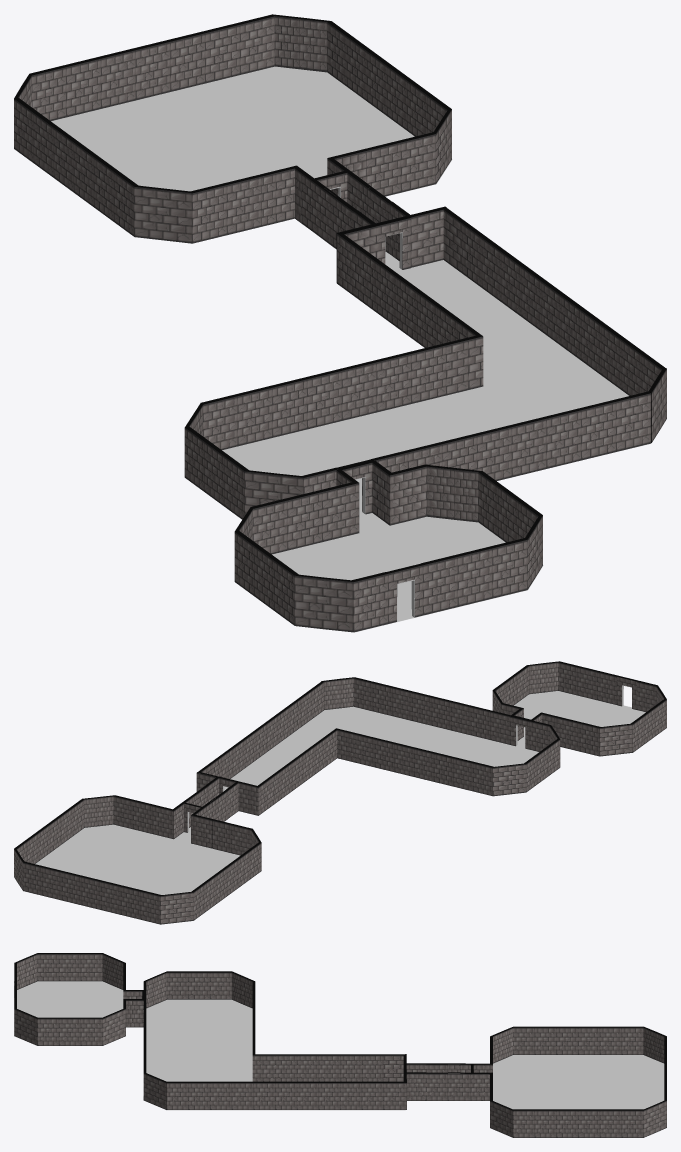
File: salle.fbx
3 views of the same model, one above another, from view 1: azimuth 30°, elevation 25°; view 2: azimuth 150°, elevation 25°; view 3: azimuth 270°, elevation 25° (orthographic). The views are drawn at different scales.
Parts seen in each view (by area): view 1: Plane277, Plane109, Plane247, Plane231, Plane072, Plane185, Plane066, Plane250, Plane179, Plane067, Plane267, Plane260 (+65 smaller); view 2: Plane277, Plane246, Plane130, Plane100, Plane203, Plane180, Plane087, Plane217, Plane158, Plane214, Plane213, Plane144 (+33 smaller); view 3: Plane277, Plane179, Plane108, Plane162, Plane248, Plane107, Plane239, Plane190, Plane077, Plane104, Plane117, Plane160 (+43 smaller).
Part boxes in pixels (bbox=[...]): Plane277: bbox=[51, 66, 666, 632]; Plane109: bbox=[294, 575, 353, 632]; Plane247: bbox=[134, 186, 192, 243]; Plane231: bbox=[274, 15, 328, 72]; Plane072: bbox=[426, 465, 479, 522]; Plane185: bbox=[410, 208, 463, 273]; Plane066: bbox=[382, 465, 426, 525]; Plane250: bbox=[261, 167, 304, 226]; Plane179: bbox=[445, 321, 483, 395]; Plane067: bbox=[321, 477, 359, 541]; Plane267: bbox=[65, 58, 101, 117]; Plane260: bbox=[191, 184, 227, 243]; Plane277: bbox=[35, 691, 645, 894]; Plane246: bbox=[160, 892, 193, 924]; Plane130: bbox=[493, 764, 526, 796]; Plane100: bbox=[600, 724, 632, 756]; Plane203: bbox=[227, 782, 258, 818]; Plane180: bbox=[326, 729, 355, 765]; Plane087: bbox=[528, 662, 558, 694]; Plane217: bbox=[83, 796, 113, 827]; Plane158: bbox=[324, 678, 353, 709]; Plane214: bbox=[153, 805, 178, 839]; Plane213: bbox=[191, 812, 212, 848]; Plane144: bbox=[355, 734, 375, 767]; Plane277: bbox=[14, 981, 664, 1137]; Plane179: bbox=[252, 1045, 275, 1081]; Plane108: bbox=[102, 1009, 125, 1045]; Plane162: bbox=[143, 1073, 166, 1109]; Plane248: bbox=[643, 1100, 666, 1137]; Plane107: bbox=[14, 1009, 37, 1045]; Plane239: bbox=[490, 1101, 513, 1137]; Plane190: bbox=[383, 1079, 406, 1109]; Plane077: bbox=[37, 953, 59, 981]; Plane104: bbox=[37, 1018, 59, 1045]; Plane117: bbox=[188, 972, 210, 999]; Plane160: bbox=[188, 1082, 210, 1109].
Bounding box in the file's own units: 17576 × 1427 × 30754.
